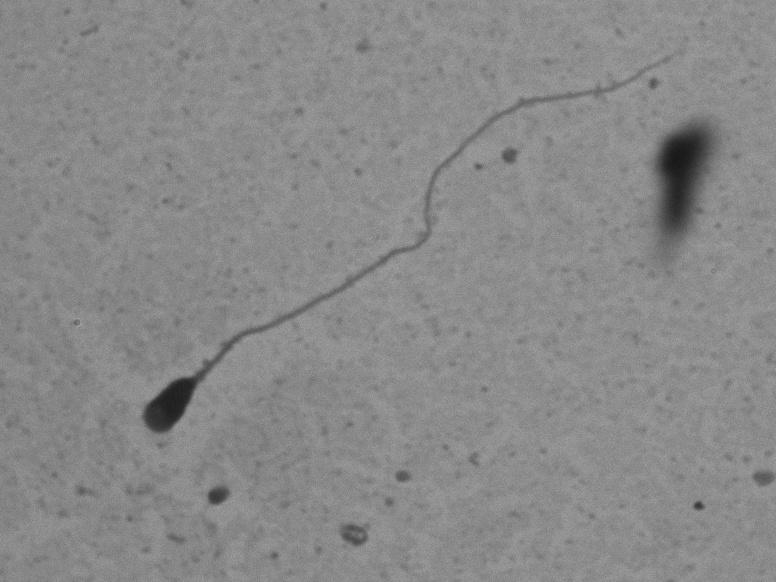Abnormal: (80, 35, 673, 483)
